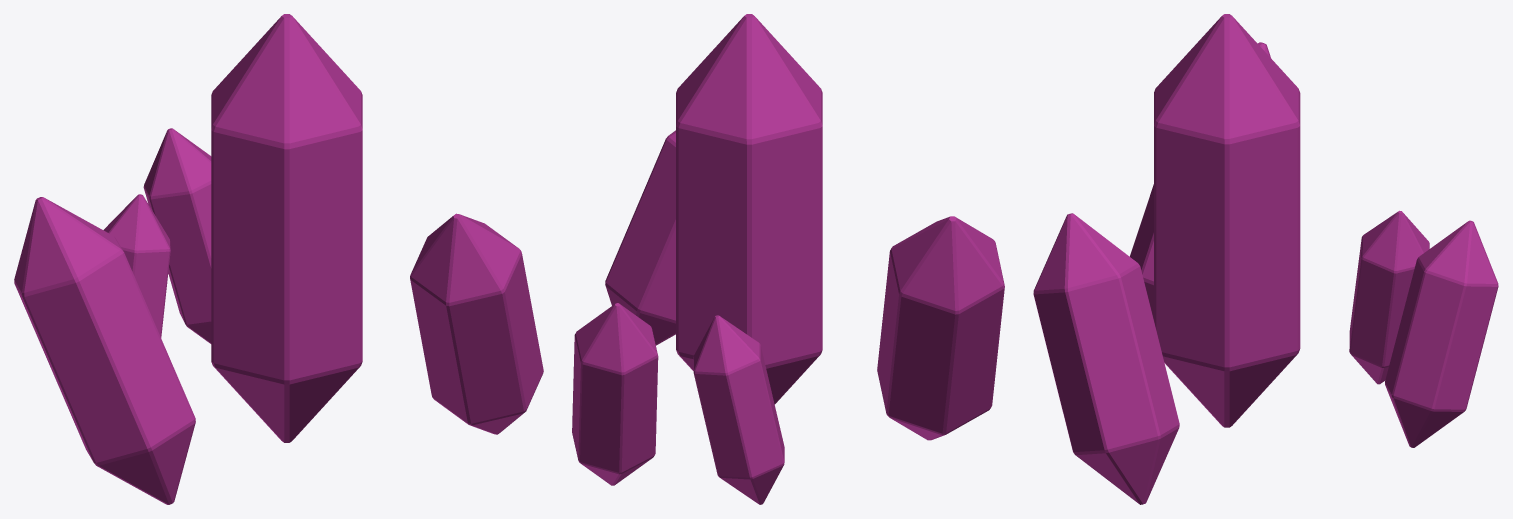
File: nat_crystal_cluster_2.glb
The picture shows the model from 3 angles, left to right: view 1: azimuth 30°, elevation 25°; view 2: azimuth 150°, elevation 25°; view 3: azimuth 270°, elevation 25°; orthographic projection. The views are drawn at different scales.
Visible parts, largest first — view 1: nat_crystal_cluster_2; view 2: nat_crystal_cluster_2; view 3: nat_crystal_cluster_2.
Boxes of the visible parts, bbox=[...] form: nat_crystal_cluster_2: bbox=[14, 14, 543, 504]; nat_crystal_cluster_2: bbox=[572, 14, 1004, 504]; nat_crystal_cluster_2: bbox=[1033, 14, 1498, 504].
Size of the model in its own units: 2.47 by 2.2 by 2.26.
